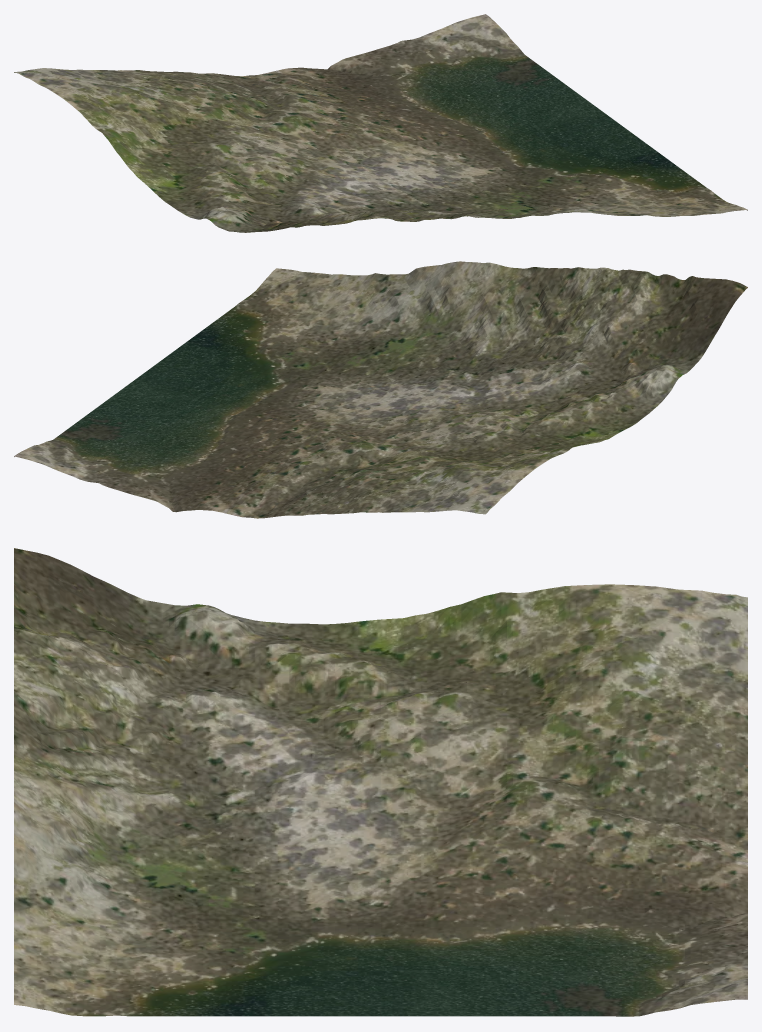
The picture shows the model from 3 angles, top to bottom: view 1: azimuth 30°, elevation 25°; view 2: azimuth 150°, elevation 25°; view 3: azimuth 270°, elevation 25°; orthographic projection. The views are drawn at different scales.
Size of the model in its own units: 500 by 114 by 481.
Materials: 1 (1 with a texture image).
